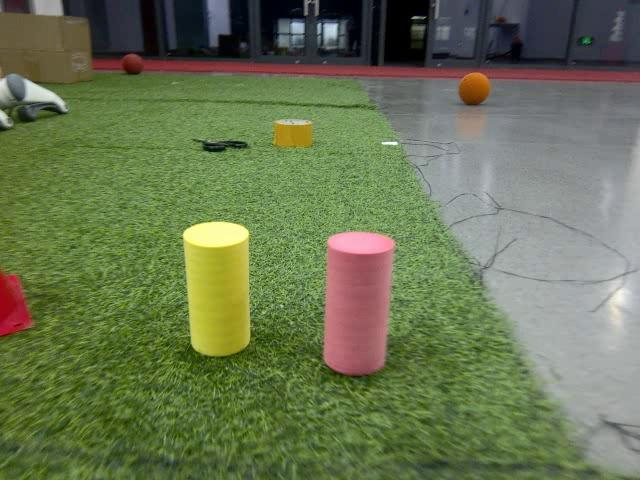orange_ball: (456, 72, 494, 109)
red_ball: (123, 54, 144, 75)
red_cylinder: (324, 230, 395, 376)
yellow_cylinder: (182, 219, 260, 358)
